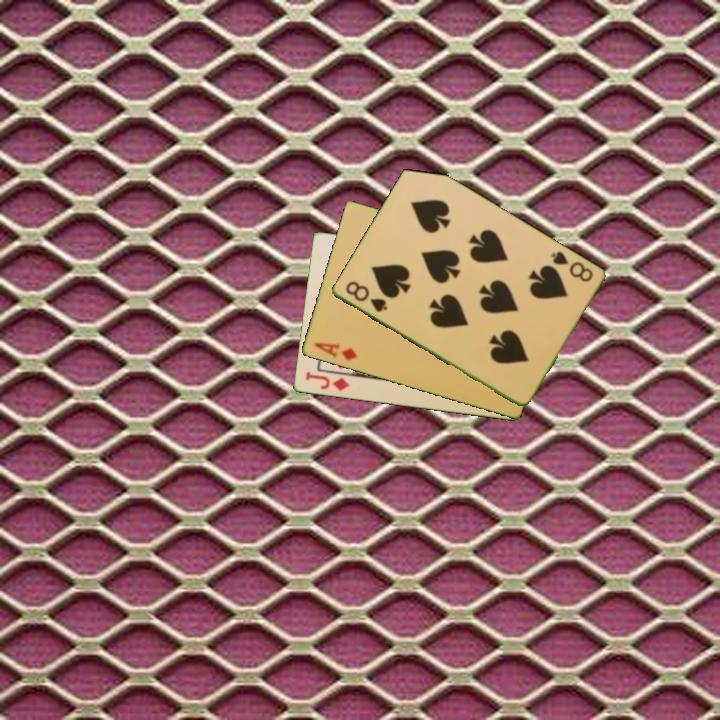8s: (341, 277, 390, 315), (547, 248, 596, 285)
Ad: (310, 339, 360, 364)
Jd: (302, 369, 352, 394)
